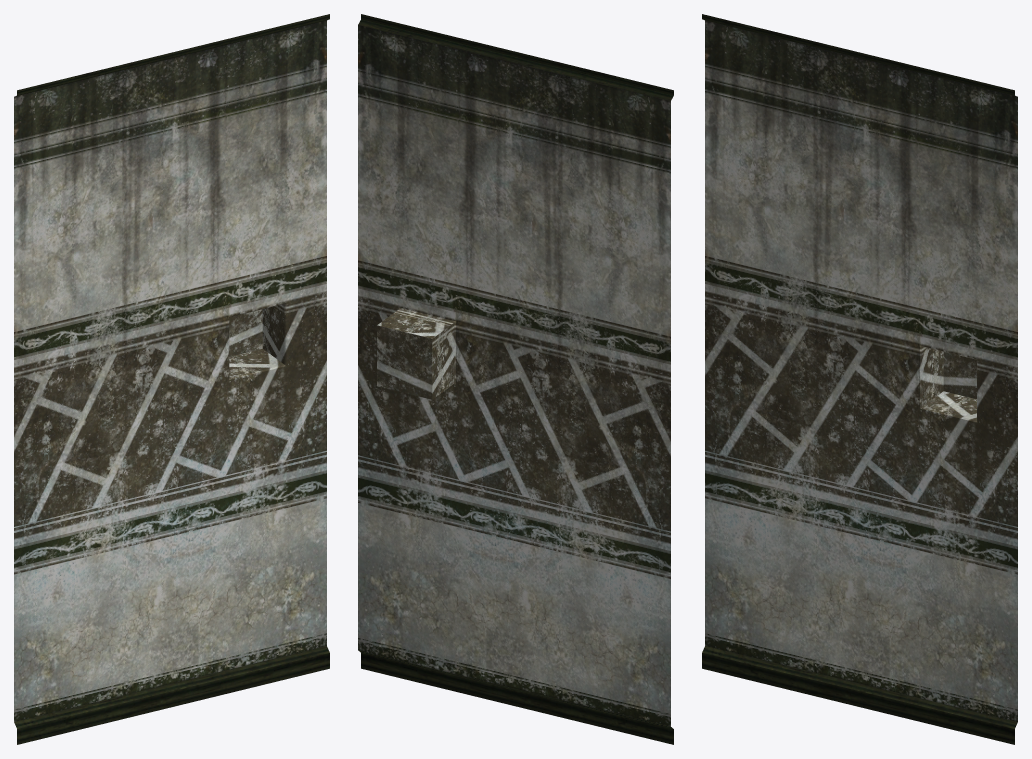
The model's file is 01_01_waitingroom_wall_damaged_kamera_hole.dae.
3 renders of one model, left to right at view 1: azimuth 30°, elevation 25°; view 2: azimuth 150°, elevation 25°; view 3: azimuth 330°, elevation 25°, orthographic.
Visible parts, largest first — view 1: polySurface15; view 2: polySurface15; view 3: polySurface15.
Part boxes in pixels (left/top/right/bottom): polySurface15: left=14, top=14, right=329, bottom=744; polySurface15: left=358, top=14, right=673, bottom=744; polySurface15: left=702, top=14, right=1017, bottom=744.
Size of the model in its own units: 2 by 4 by 0.2841.
